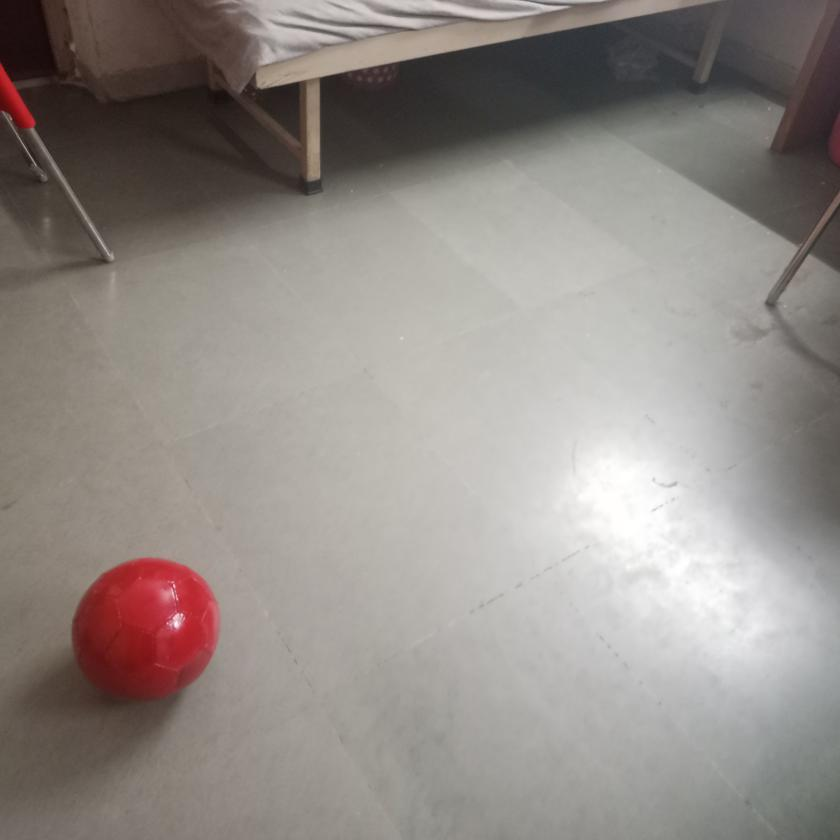Red_Ball: (71, 552, 225, 711)
